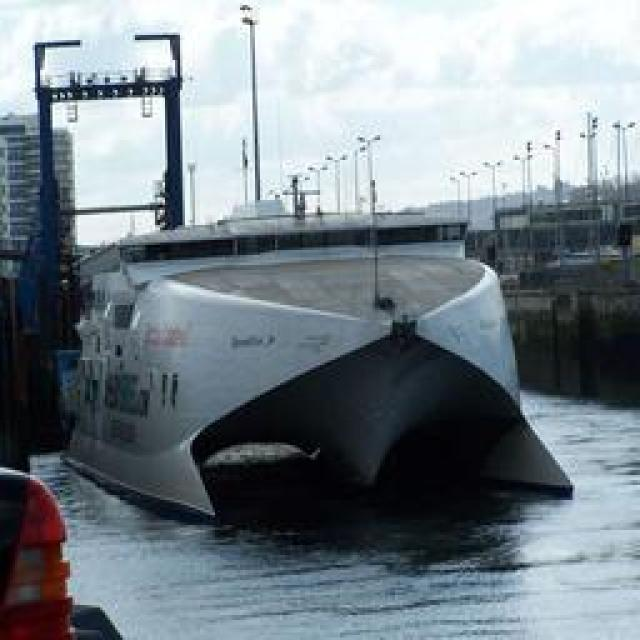ship: (61, 232, 564, 526)
